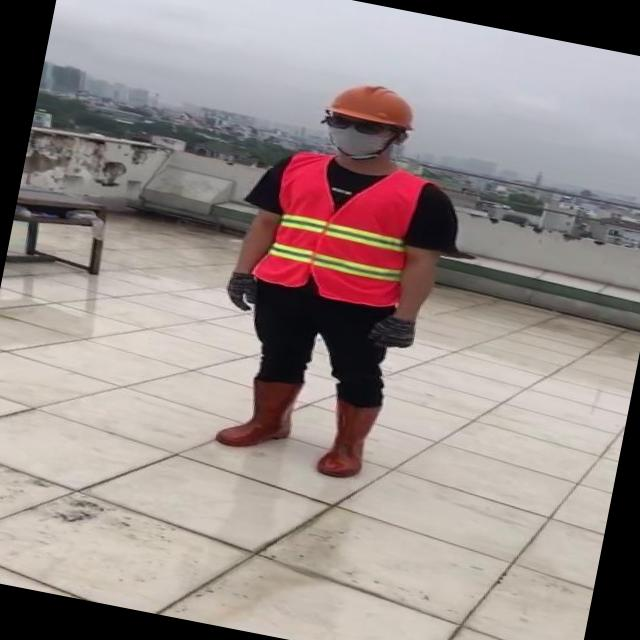boots: (208, 368, 304, 462), (316, 395, 385, 484)
helmet: (326, 74, 425, 132)
vest: (252, 144, 434, 312)
